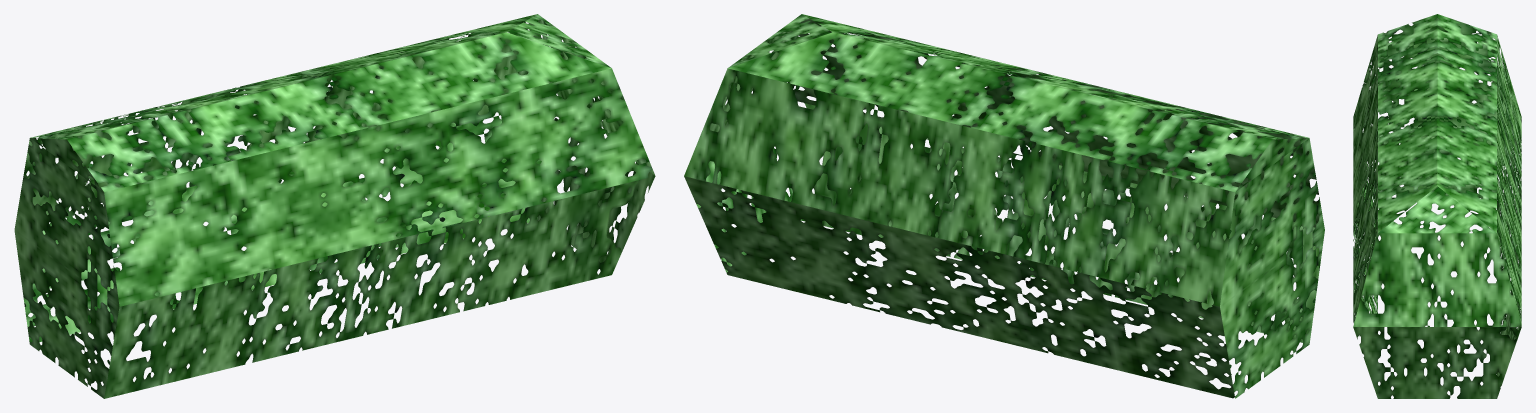
Rendered from bush_long_open_right_spring.fbx.
The picture shows the model from 3 angles, left to right: view 1: azimuth 30°, elevation 25°; view 2: azimuth 150°, elevation 25°; view 3: azimuth 270°, elevation 25°; orthographic projection. The views are drawn at different scales.
Parts seen in each view (by area): view 1: bush_long_open_right_spring; view 2: bush_long_open_right_spring; view 3: bush_long_open_right_spring.
Part boxes in pixels (left/top/right/bottom): bush_long_open_right_spring: left=14, top=14, right=655, bottom=398; bush_long_open_right_spring: left=684, top=14, right=1324, bottom=398; bush_long_open_right_spring: left=1353, top=14, right=1521, bottom=398.
Size of the model in its own units: 212 by 87.65 by 71.92.
Materials: 1 (1 with a texture image).
